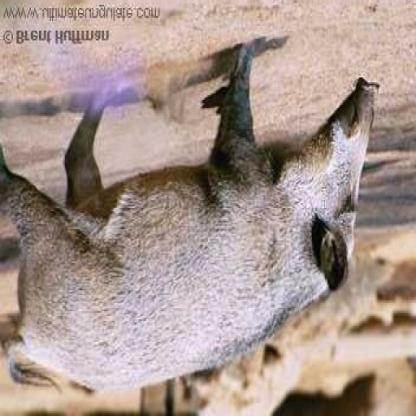boar: (15, 35, 394, 389)
